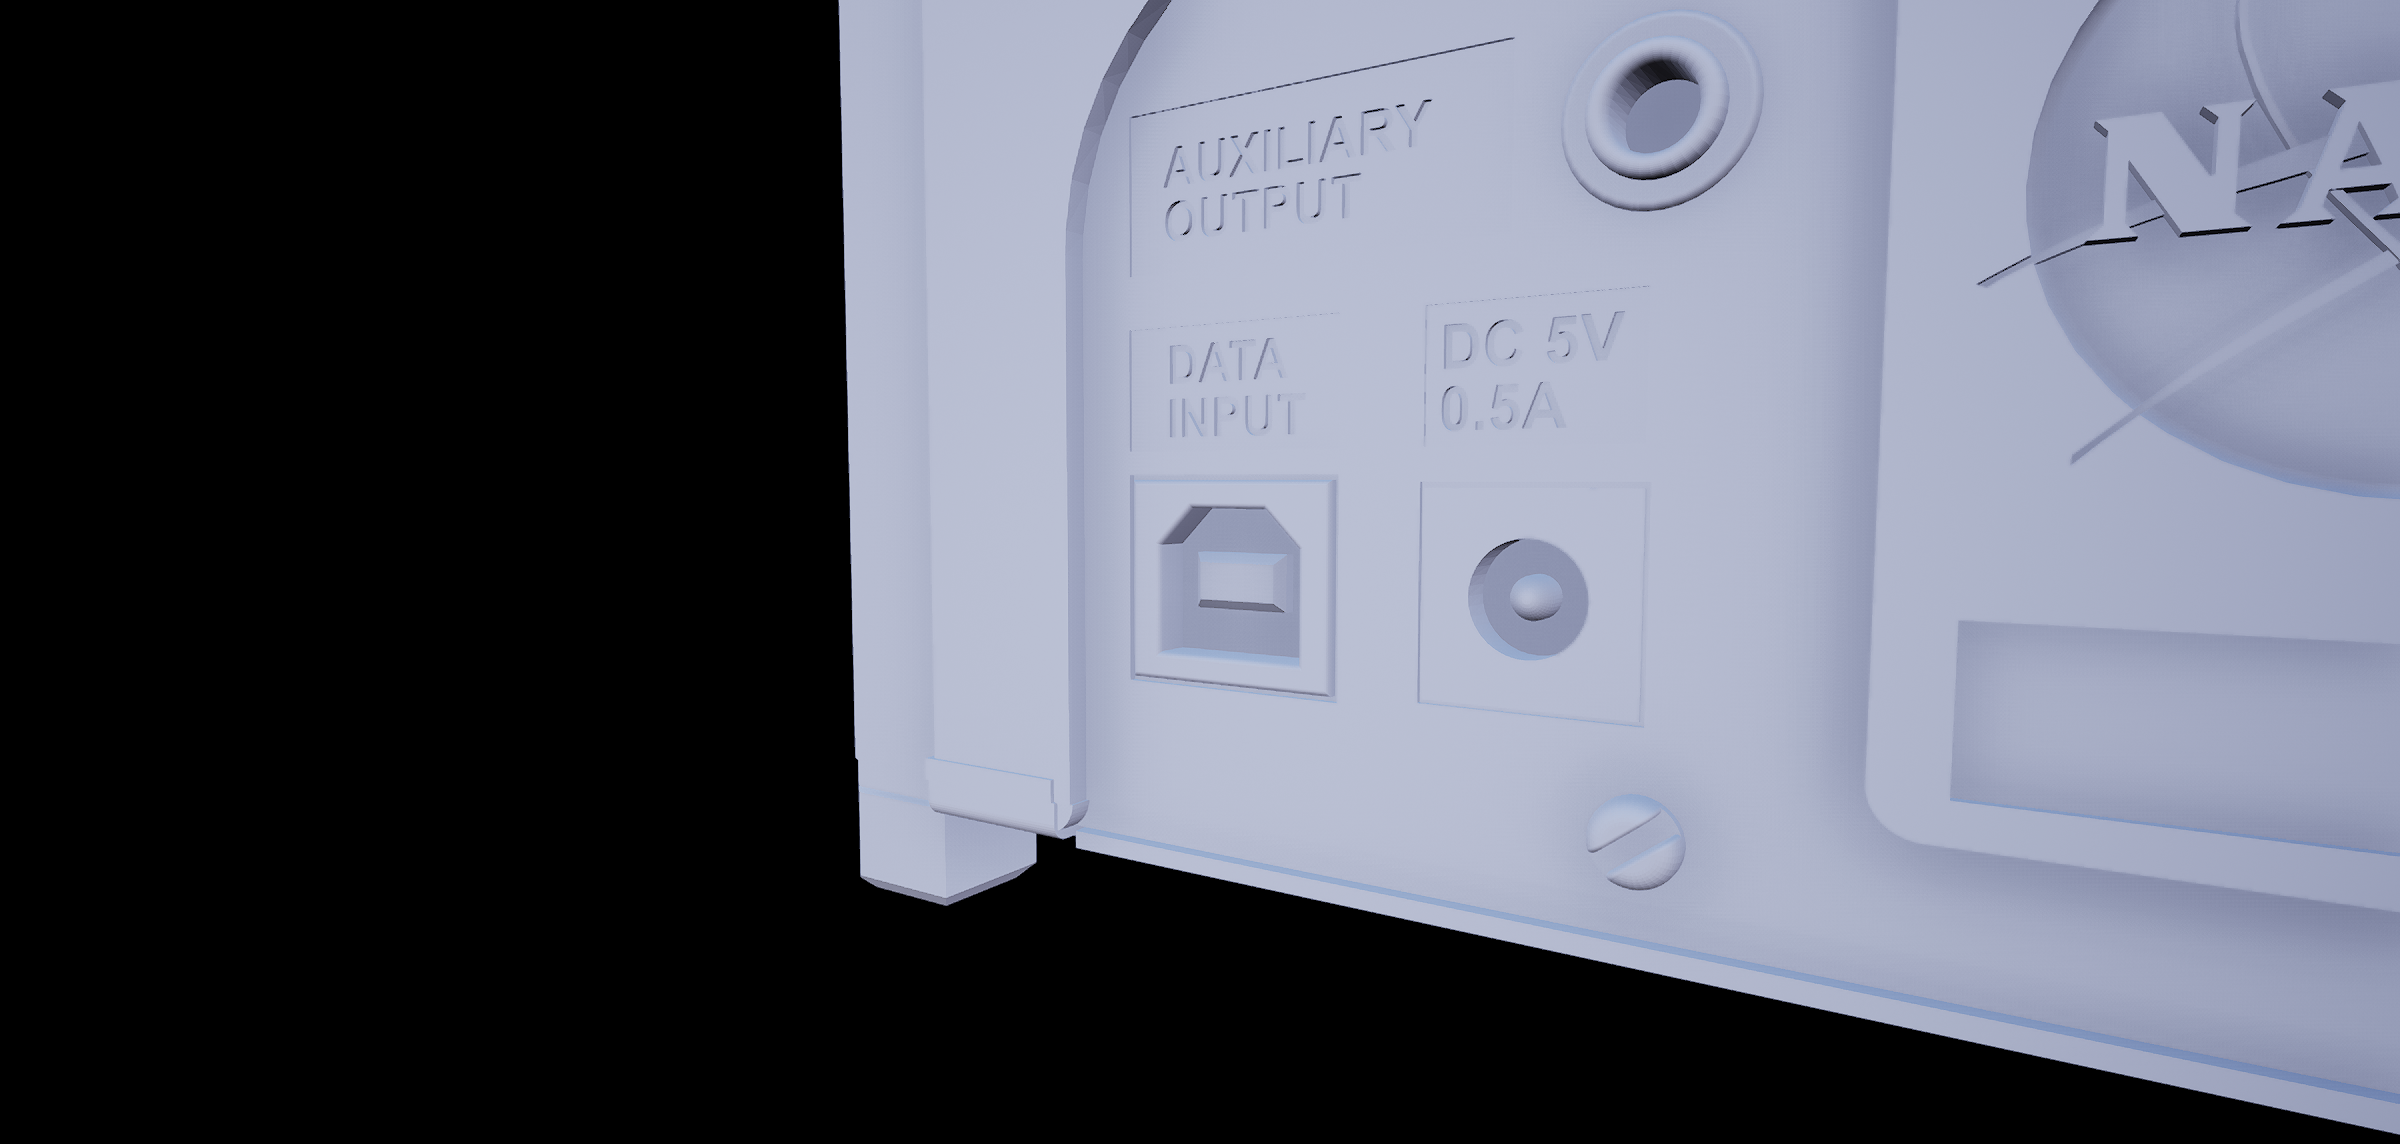aux: (1551, 11, 1794, 228)
dc: (1459, 528, 1603, 668)
usb: (1154, 490, 1312, 681)
